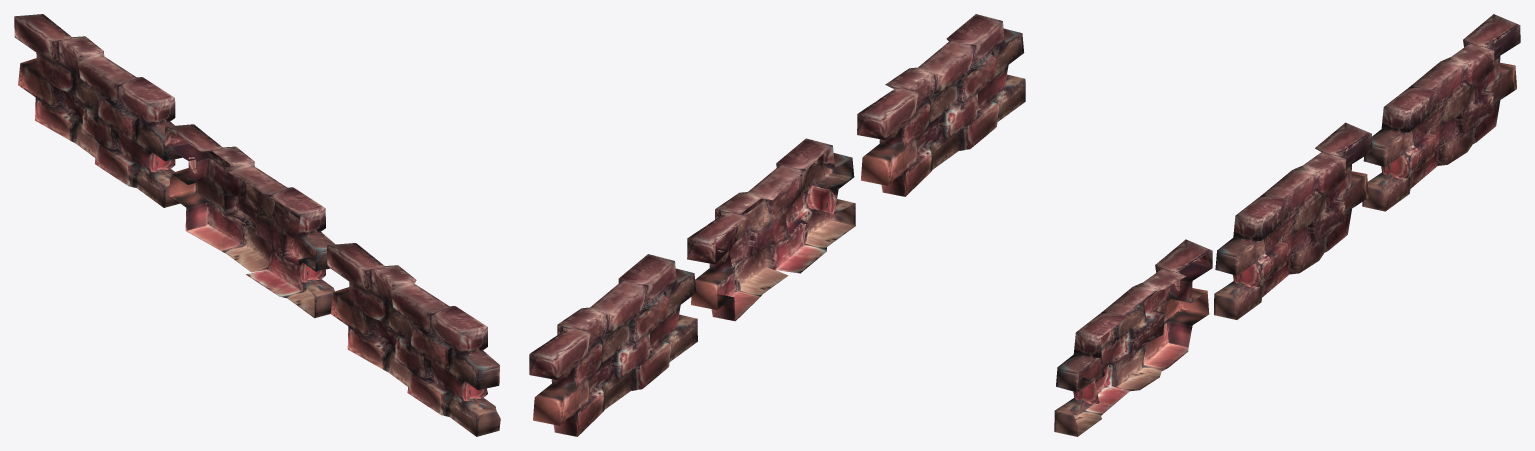
File: Bricks.FBX
The picture shows the model from 3 angles, left to right: view 1: azimuth 30°, elevation 25°; view 2: azimuth 150°, elevation 25°; view 3: azimuth 330°, elevation 25°; orthographic projection. The views are drawn at different scales.
Parts seen in each view (by area): view 1: Bricks Optimized Culled B, Bricks Optimized Culled A, Bricks Optimized; view 2: Bricks Optimized, Bricks Optimized Culled B, Bricks Optimized Culled A; view 3: Bricks Optimized Culled B, Bricks Optimized Culled A, Bricks Optimized.
Boxes of the visible parts, bbox=[...] form: Bricks Optimized Culled B: bbox=[327, 243, 500, 436]; Bricks Optimized Culled A: bbox=[165, 124, 335, 318]; Bricks Optimized: bbox=[14, 14, 181, 207]; Bricks Optimized: bbox=[529, 254, 697, 436]; Bricks Optimized Culled B: bbox=[857, 14, 1025, 196]; Bricks Optimized Culled A: bbox=[687, 138, 855, 321]; Bricks Optimized Culled B: bbox=[1054, 239, 1212, 436]; Bricks Optimized Culled A: bbox=[1214, 122, 1372, 319]; Bricks Optimized: bbox=[1362, 14, 1520, 211].
Bounding box in the file's own units: 26.4 × 549 × 60.45.
1 material, 1 textured.
